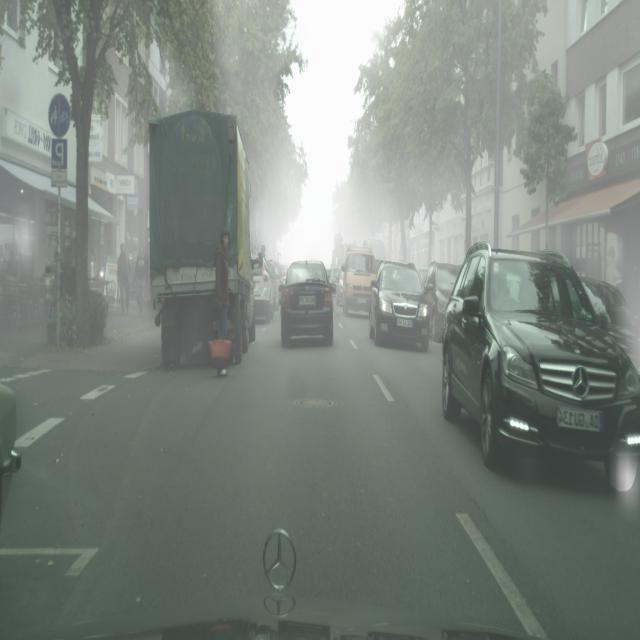bicycle: (148, 110, 256, 369)
bus: (441, 242, 640, 496), (369, 261, 432, 351), (280, 259, 334, 348), (423, 263, 460, 339), (342, 248, 379, 317), (252, 255, 275, 324)
person: (214, 228, 231, 339), (117, 242, 131, 316), (134, 244, 146, 318)
